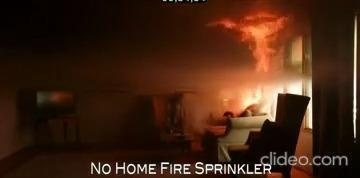fire: (208, 5, 294, 121)
